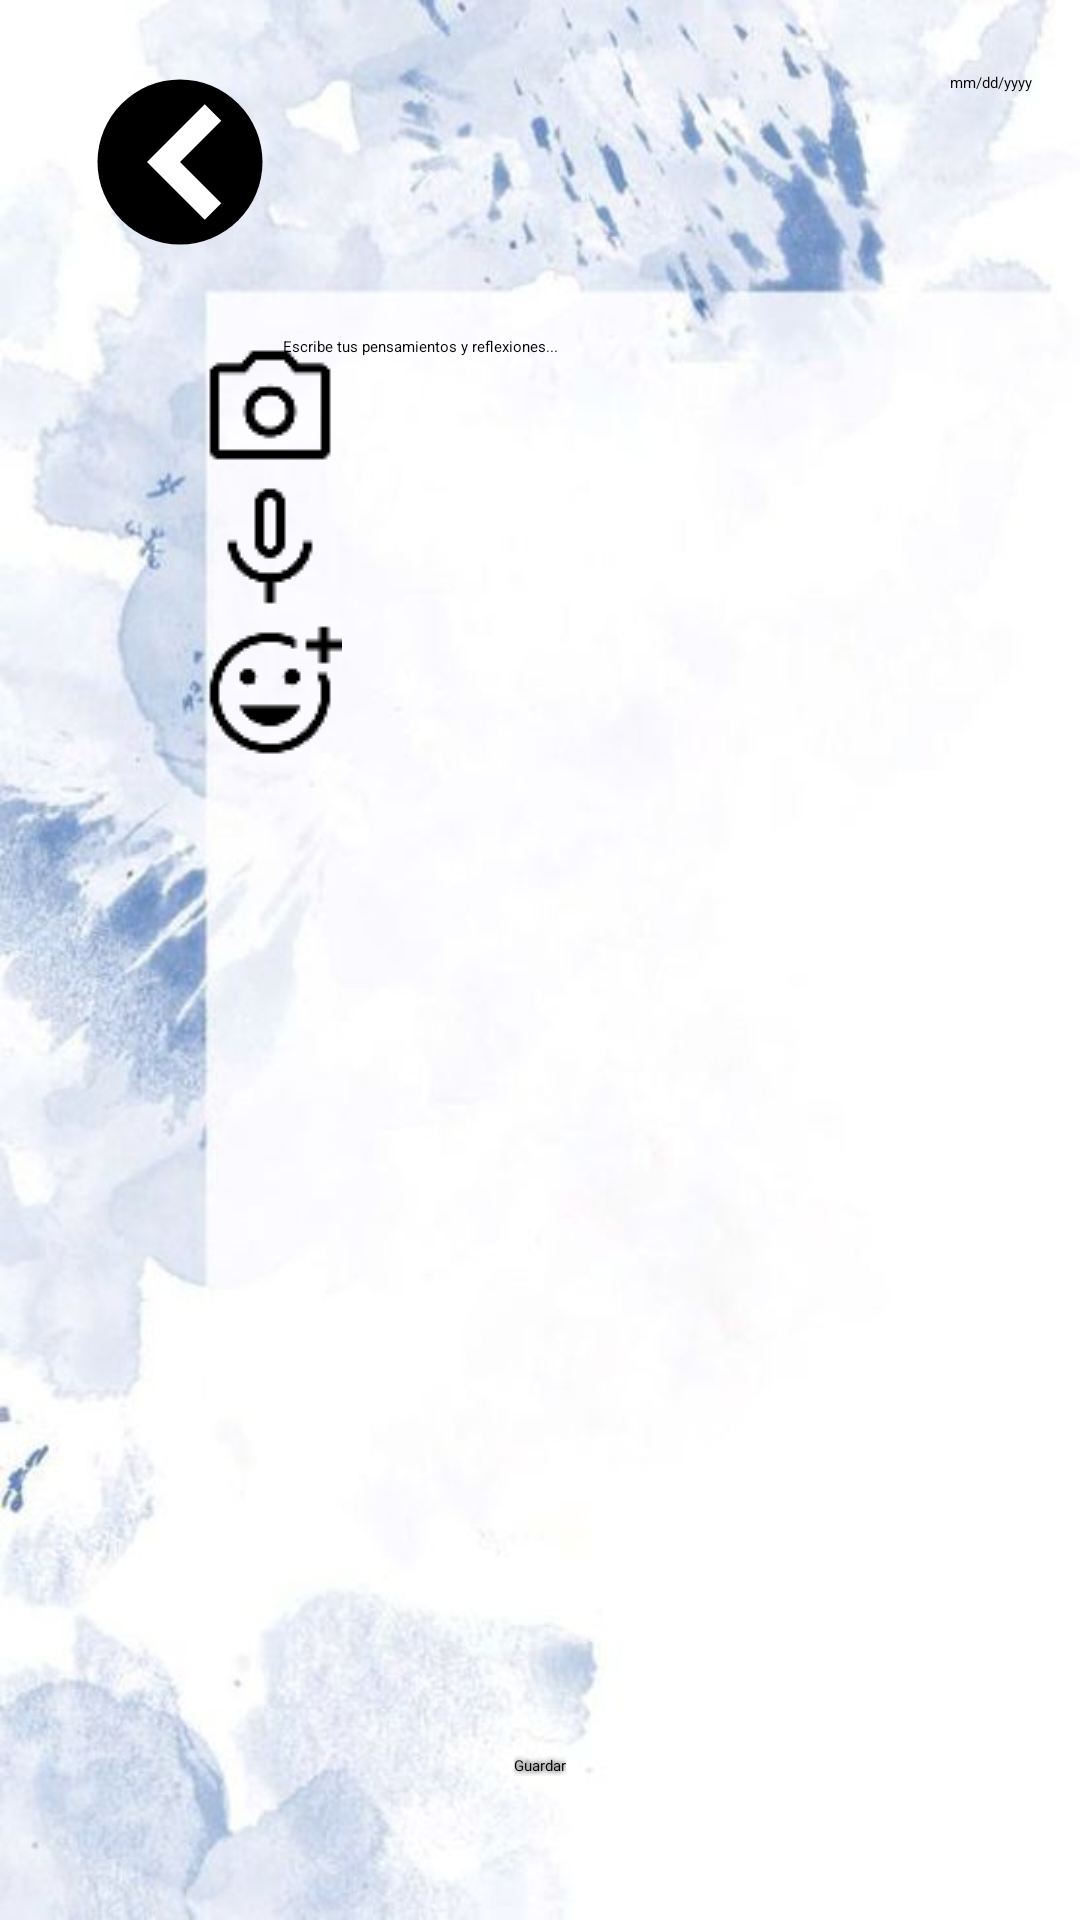

Named icons in this screenshot (1080w x 1920h) and their centers, [x,y]:
camera: [275,400]
emoji: [275,690]
micro: [270,546]
Volver: [197,162]
